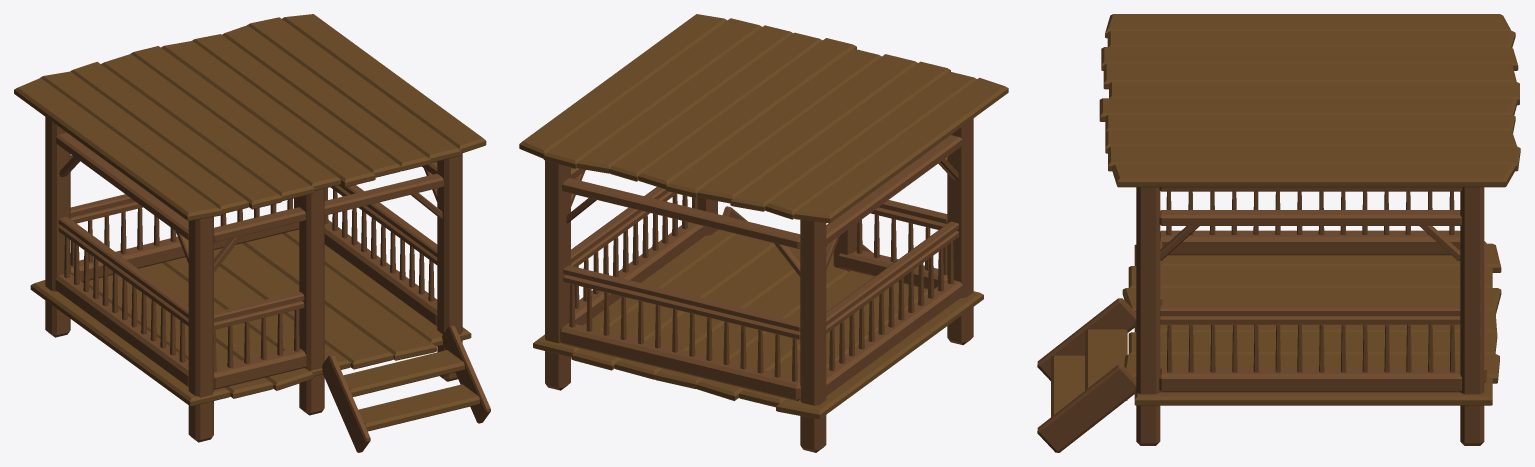
The model's file is farmstractures_02.gltf.
The picture shows the model from 3 angles, left to right: view 1: azimuth 30°, elevation 25°; view 2: azimuth 150°, elevation 25°; view 3: azimuth 270°, elevation 25°; orthographic projection. The views are drawn at different scales.
Parts seen in each view (by area): view 1: blades, body; view 2: blades, body; view 3: blades, body.
Boxes of the visible parts, left/top/right/bottom form: blades: left=14, top=14, right=482, bottom=439; body: left=30, top=136, right=490, bottom=452; blades: left=523, top=14, right=1008, bottom=450; body: left=519, top=138, right=983, bottom=452; blades: left=1099, top=14, right=1519, bottom=443; body: left=1037, top=14, right=1520, bottom=452.
Bounding box in the file's own units: 3.58 × 2.91 × 4.38.
1 material, 1 textured.
